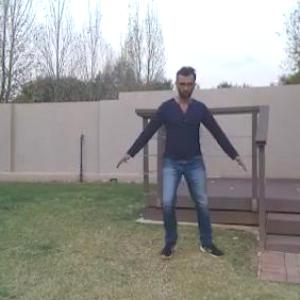land: (121, 65, 238, 267)
